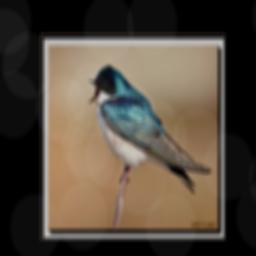Swallow: (86, 63, 213, 196)
